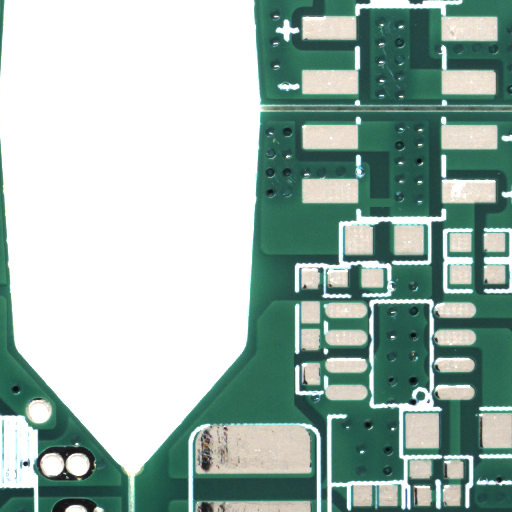Short: (380, 201, 405, 217)
